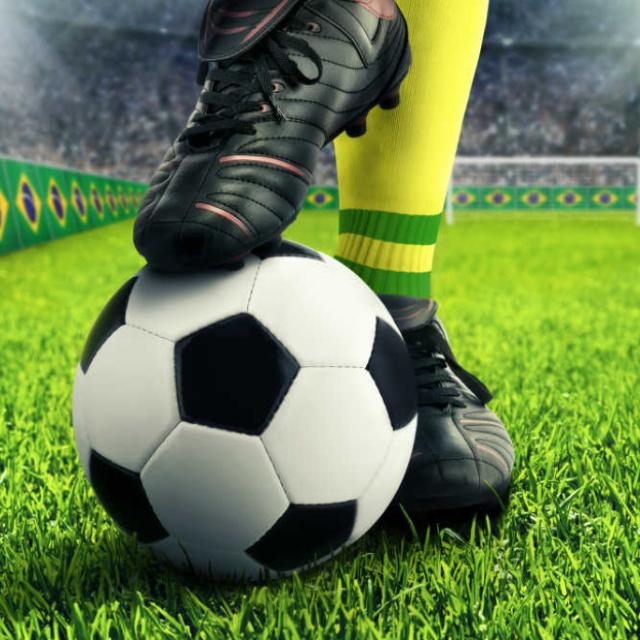football: (45, 210, 434, 586)
